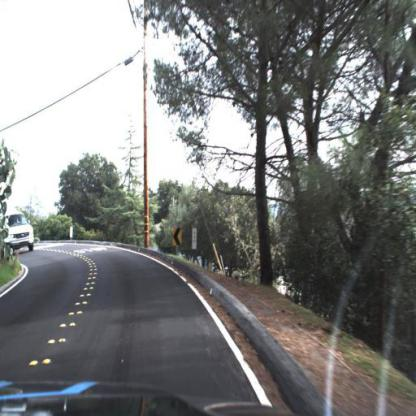car: (2, 212, 34, 260)
